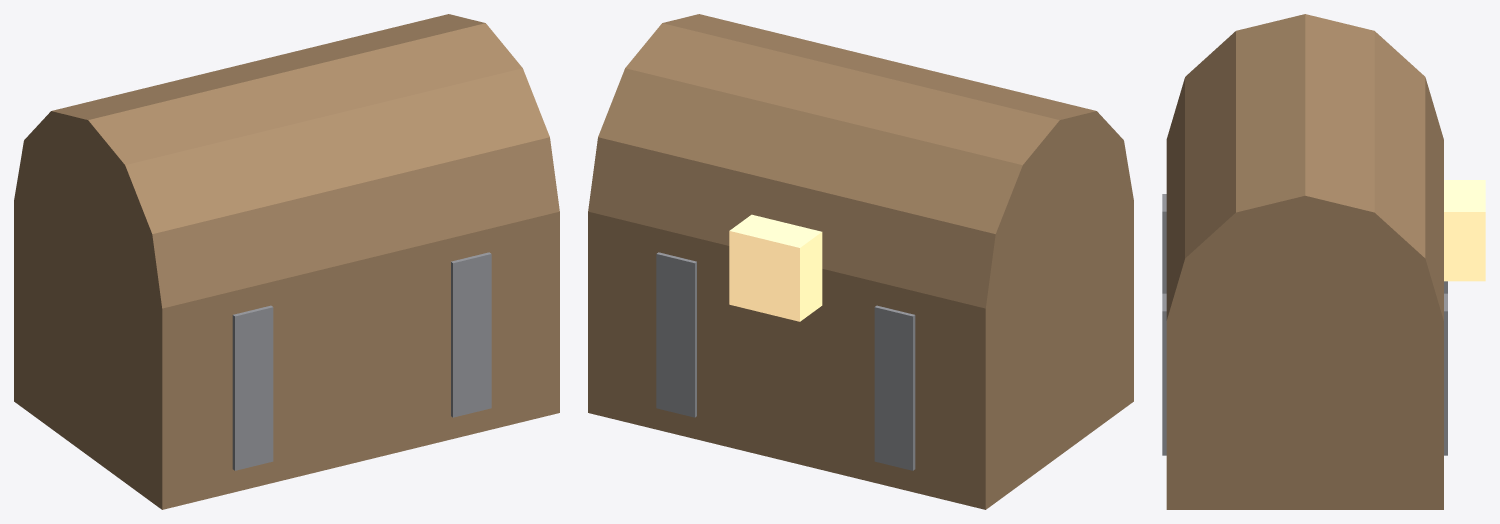
Rendered from 70-Interacciones_cofre_pequeno.glb.
3 views of the same model, side by side, from view 1: azimuth 30°, elevation 25°; view 2: azimuth 150°, elevation 25°; view 3: azimuth 270°, elevation 25° (orthographic). The views are drawn at different scales.
Visible parts, largest first — view 1: SM_Cofre_M_Madera_Cofre_Peq_Hierro_Cofre_Peq_Bronce_Cierre; view 2: SM_Cofre_M_Madera_Cofre_Peq_Hierro_Cofre_Peq_Bronce_Cierre; view 3: SM_Cofre_M_Madera_Cofre_Peq_Hierro_Cofre_Peq_Bronce_Cierre.
Boxes of the visible parts, x1=… form: SM_Cofre_M_Madera_Cofre_Peq_Hierro_Cofre_Peq_Bronce_Cierre: x1=14, y1=14, x2=559, y2=509; SM_Cofre_M_Madera_Cofre_Peq_Hierro_Cofre_Peq_Bronce_Cierre: x1=588, y1=14, x2=1133, y2=509; SM_Cofre_M_Madera_Cofre_Peq_Hierro_Cofre_Peq_Bronce_Cierre: x1=1162, y1=14, x2=1485, y2=509.
Size of the model in its own units: 0.62 by 0.5 by 0.466.
